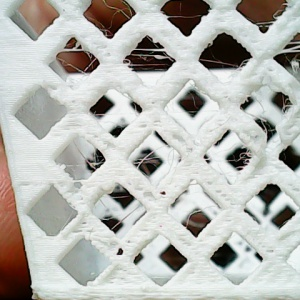3dpstringing: (237, 81, 296, 132), (94, 194, 148, 232), (200, 148, 258, 181), (61, 146, 107, 187), (121, 45, 176, 75), (55, 43, 100, 79), (91, 3, 136, 37), (134, 144, 174, 181), (255, 4, 296, 34), (196, 55, 254, 74), (181, 204, 222, 228), (87, 106, 144, 123), (275, 38, 300, 75), (160, 12, 204, 25)
3dpunderextrusion: (167, 127, 216, 161), (204, 183, 237, 209), (101, 239, 133, 263)
